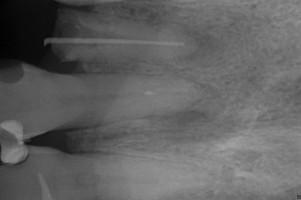Furcation Involvement: (150, 82, 226, 131), (177, 23, 225, 63)
